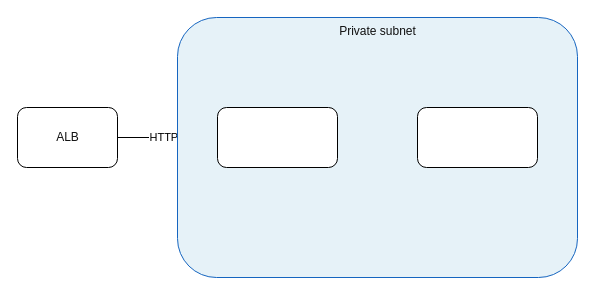
This 595x295 diagram has some shape labels left out. The shapes that lost their labels are listed below. From the top down, each one's box as (x1, y1, x2, y2) in pixels, then its label:
(216, 106, 338, 168): ECS service
(416, 106, 538, 168): RDS
